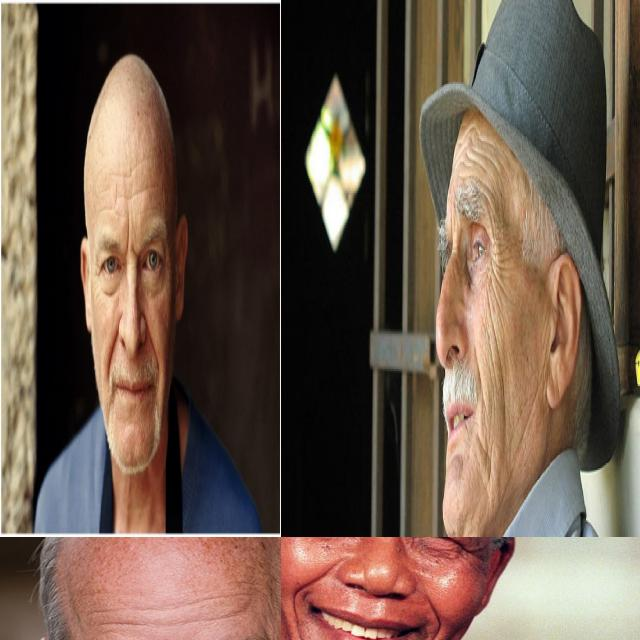crows_feet: (487, 231, 504, 286), (465, 538, 487, 564)
forehead: (208, 602, 252, 630), (195, 584, 239, 612), (98, 611, 142, 635), (159, 610, 199, 628), (480, 183, 498, 216), (475, 142, 494, 172), (123, 184, 143, 203), (466, 119, 481, 143), (108, 164, 126, 182), (462, 151, 474, 178), (111, 181, 119, 216)
frown_line: (448, 210, 456, 247), (125, 213, 131, 253)
gummy_smile: (303, 554, 337, 588), (144, 310, 158, 372), (424, 596, 446, 630), (473, 346, 484, 398), (108, 323, 120, 368)
masseter: (487, 305, 504, 376), (520, 397, 537, 452), (482, 426, 495, 488), (498, 377, 511, 435)
sad_smile: (288, 607, 312, 640)
